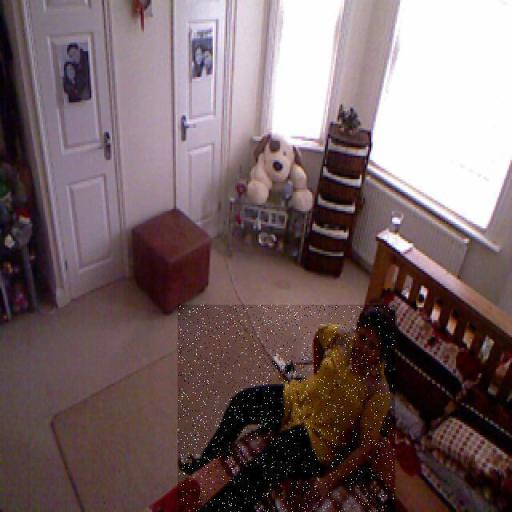Fall: (178, 305, 395, 512)
